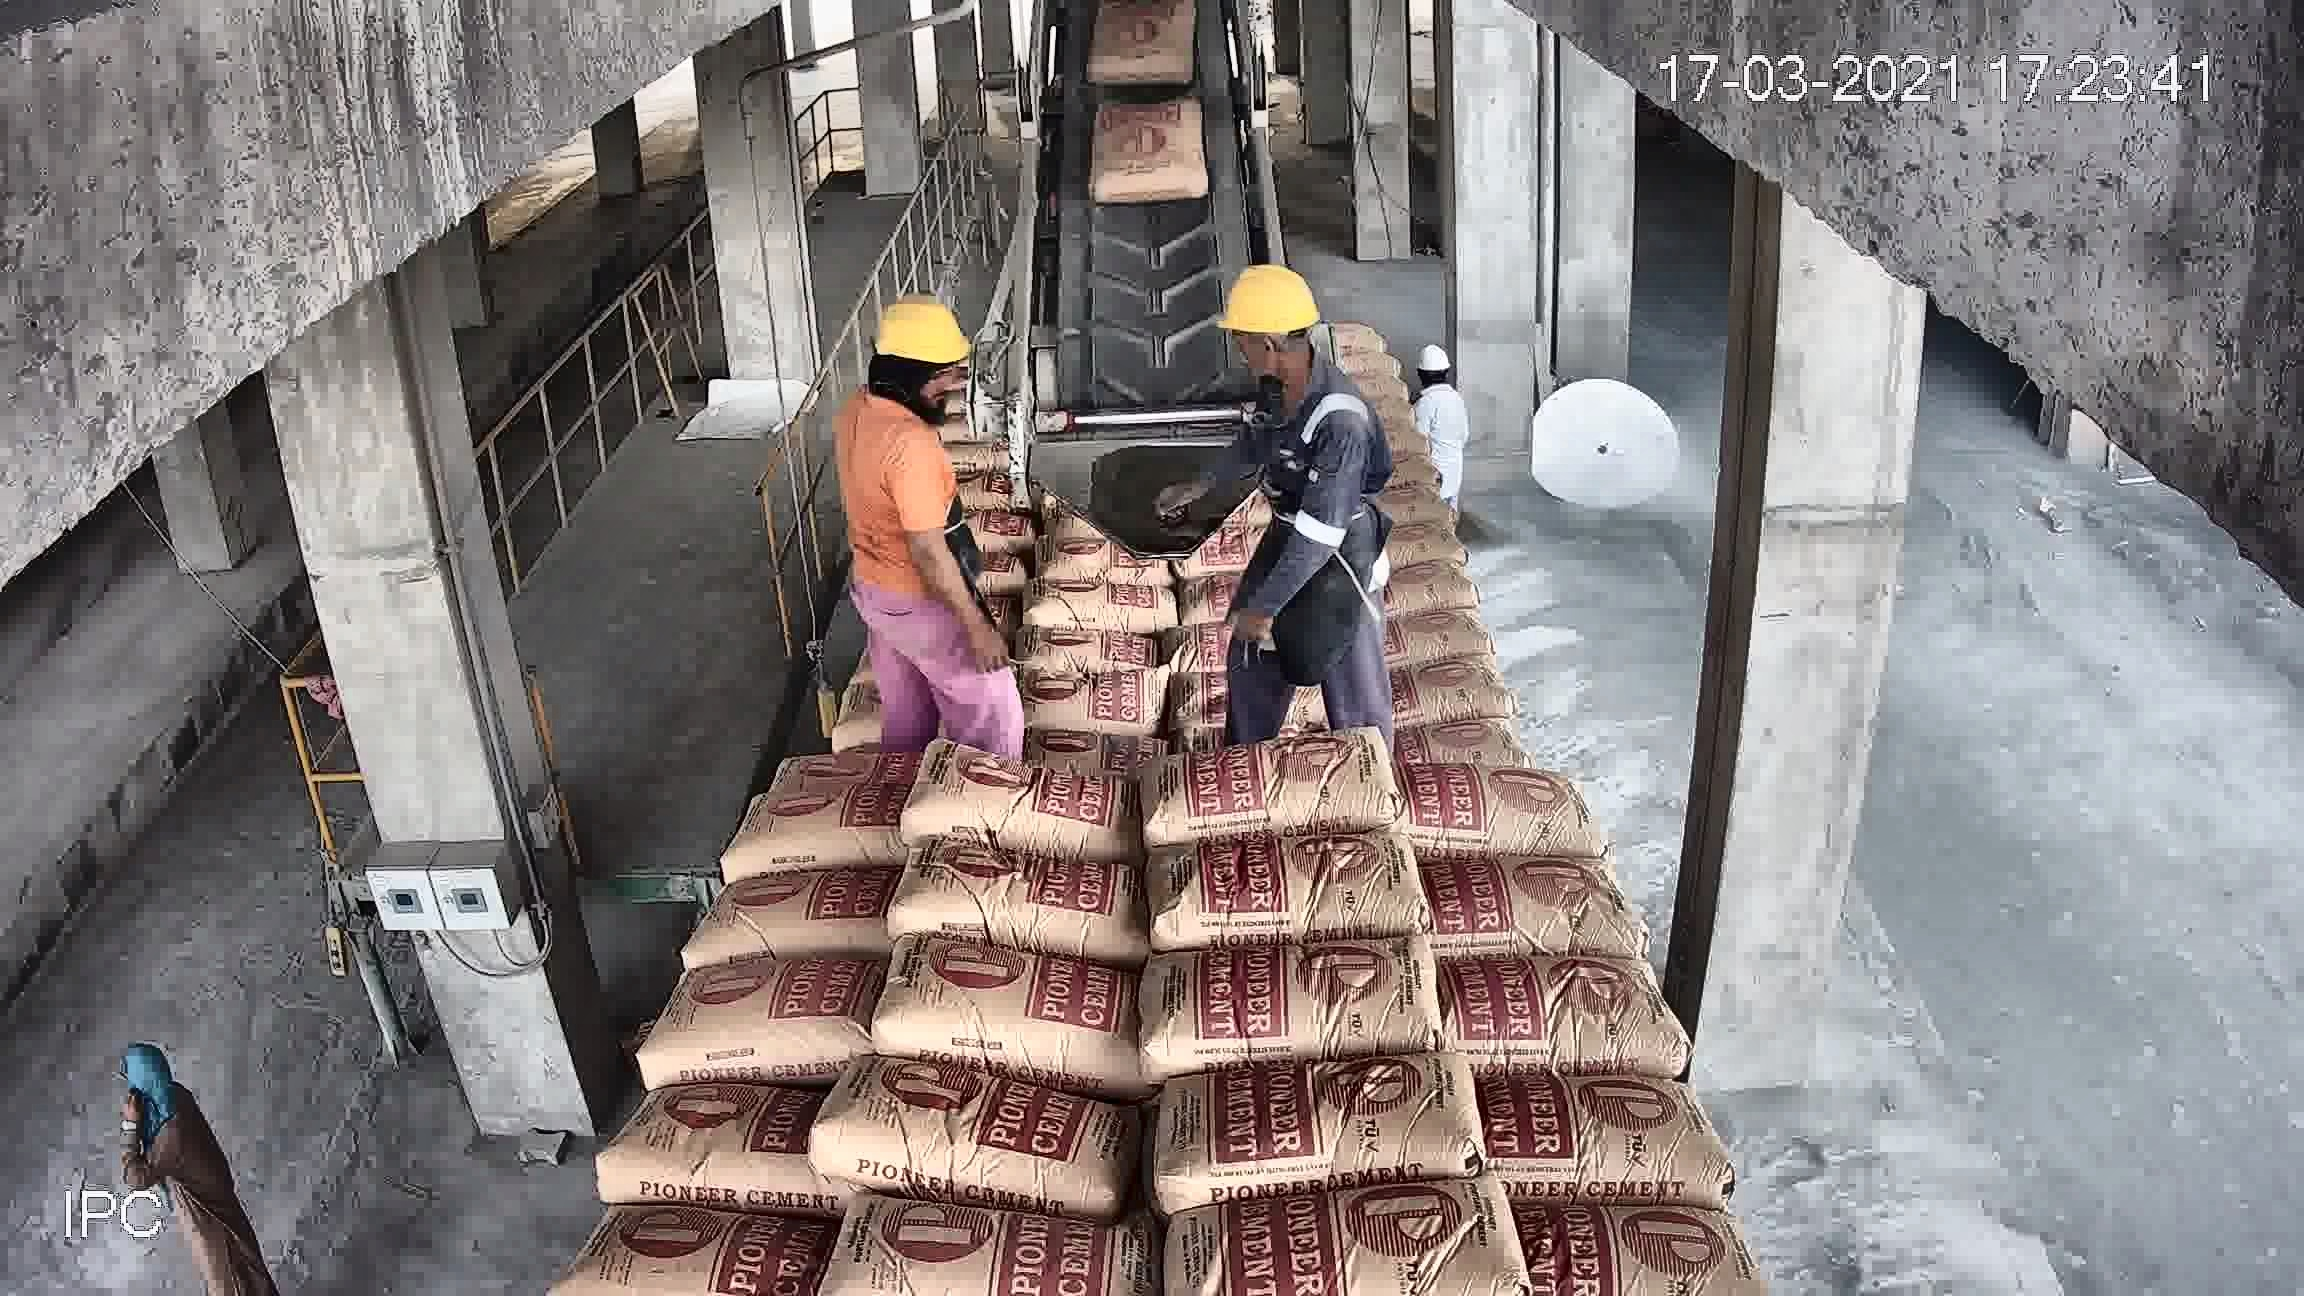bag: (1048, 0, 1256, 347), (1108, 206, 1215, 329)
bag_h: (1176, 1040, 1475, 1214), (1168, 1179, 1540, 1296), (1133, 938, 1445, 1068), (1139, 818, 1421, 961), (809, 1076, 1109, 1201), (856, 943, 1138, 1070), (567, 1090, 831, 1211), (1445, 945, 1684, 1074), (1136, 734, 1397, 847), (1381, 855, 1627, 967), (1503, 1067, 1733, 1185), (1400, 728, 1598, 858), (627, 967, 872, 1070), (1141, 578, 1396, 676), (736, 756, 930, 885), (946, 595, 1165, 696), (918, 752, 1171, 839), (540, 1218, 836, 1293), (1127, 650, 1374, 736), (888, 864, 1147, 943), (831, 1233, 1150, 1296), (1377, 673, 1578, 772), (682, 870, 885, 967), (1530, 1195, 1750, 1283), (1161, 524, 1367, 612), (752, 682, 948, 772), (945, 502, 1166, 579), (938, 684, 1130, 766), (793, 636, 965, 723), (1155, 487, 1336, 555), (967, 562, 1160, 625), (1356, 563, 1513, 638), (1374, 627, 1541, 695), (820, 578, 980, 649), (813, 543, 983, 601), (1337, 525, 1487, 581), (1176, 418, 1274, 476), (1182, 342, 1269, 407), (1169, 392, 1282, 437), (913, 465, 987, 524), (1089, 456, 1177, 491), (911, 440, 983, 483)
